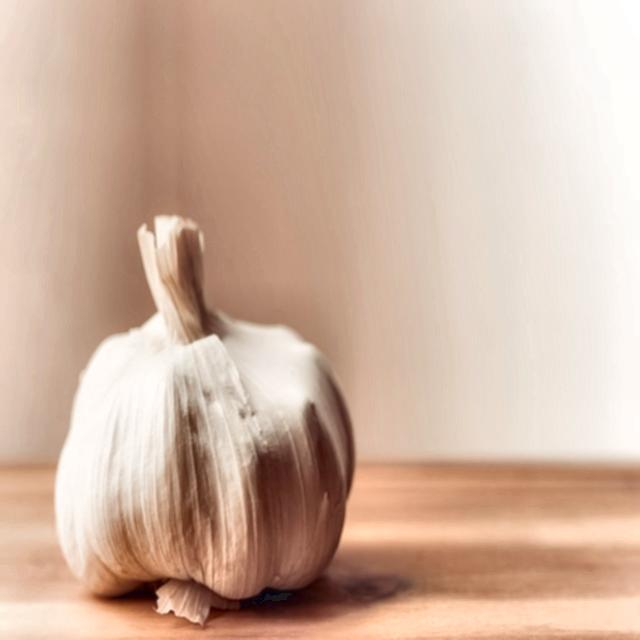garlic: (56, 216, 354, 622)
